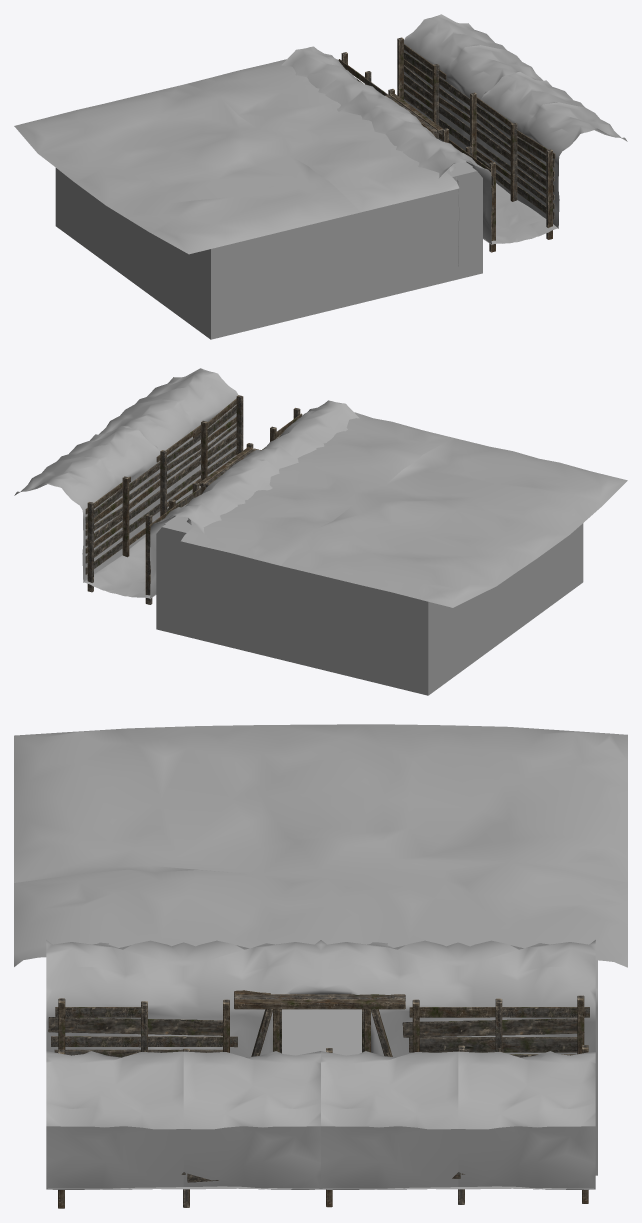
Rendered from Room_A_Wood.fbx.
The picture shows the model from 3 angles, top to bottom: view 1: azimuth 30°, elevation 25°; view 2: azimuth 150°, elevation 25°; view 3: azimuth 270°, elevation 25°; orthographic projection. The views are drawn at different scales.
Parts seen in each view (by area): view 1: Room_A_Wood_LOD0, Room_A_Top_Ground_LOD0; view 2: Room_A_Wood_LOD0, Room_A_Top_Ground_LOD0; view 3: Room_A_Wood_LOD0, Room_A_Top_Ground_LOD0.
Boxes of the visible parts, x1,y1,x2,y2 form: Room_A_Wood_LOD0: (55, 14, 627, 339); Room_A_Top_Ground_LOD0: (14, 59, 459, 254); Room_A_Wood_LOD0: (14, 368, 583, 695); Room_A_Top_Ground_LOD0: (181, 412, 627, 607); Room_A_Wood_LOD0: (46, 940, 597, 1208); Room_A_Top_Ground_LOD0: (14, 724, 627, 967).
Size of what is drawn, in the model's own units: 1371 by 335 by 895.
